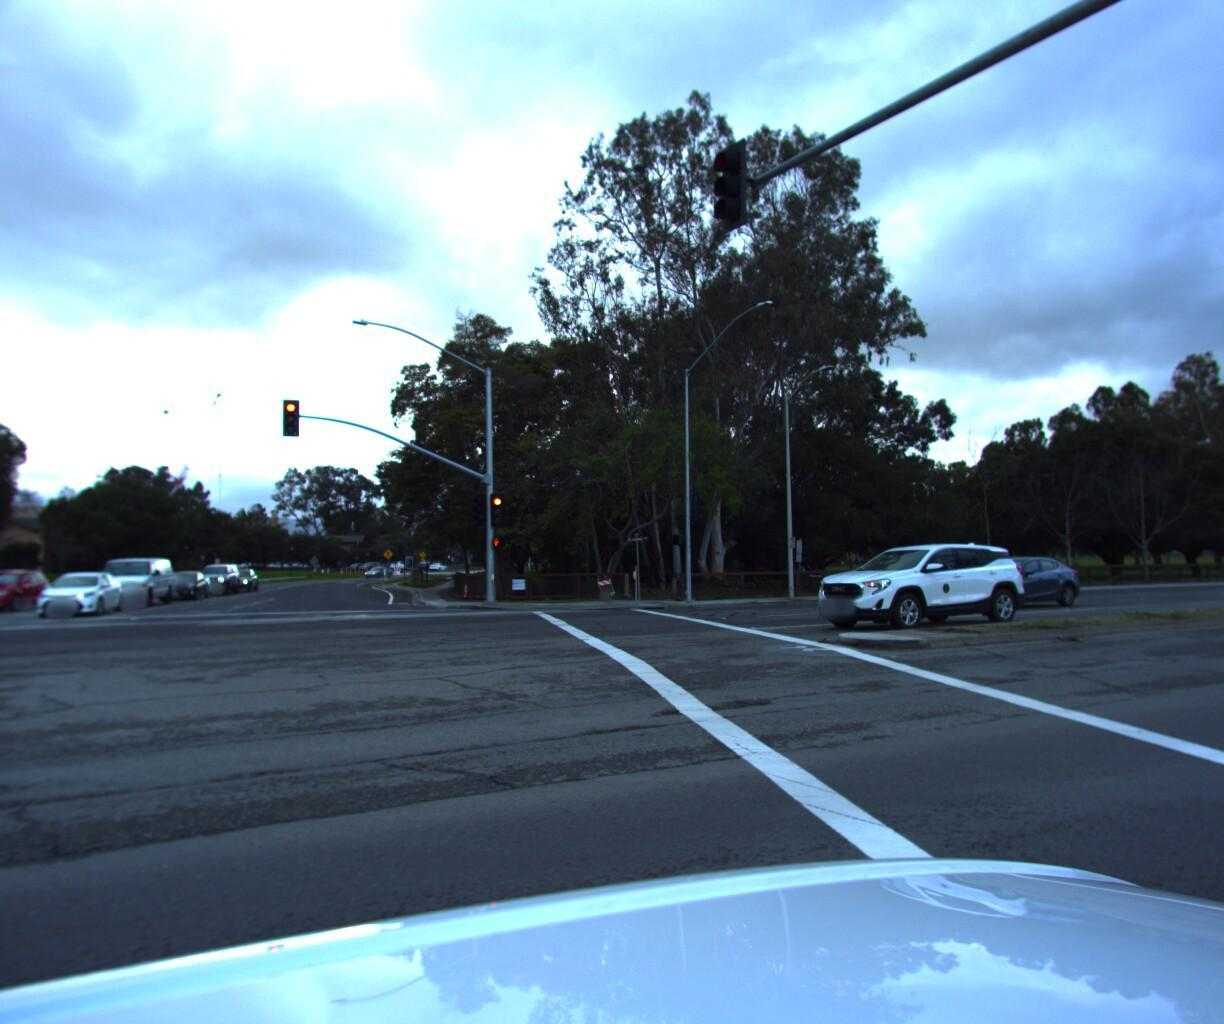bicycle: (0, 564, 7, 626)
car: (798, 533, 1031, 633), (959, 552, 1104, 608), (27, 570, 133, 621), (86, 555, 176, 609), (0, 567, 58, 618), (158, 567, 217, 601), (189, 563, 247, 596), (220, 566, 262, 593)
